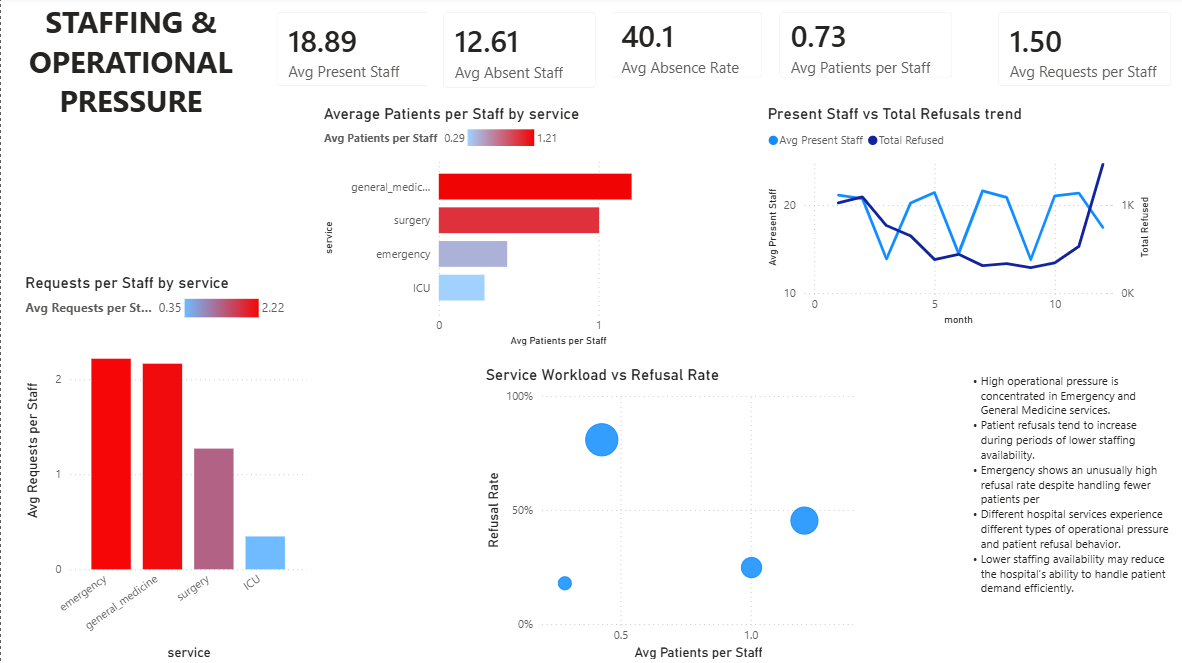

The dashboard page shown, as its layout file describes it:
{"tool":"powerbi","page":{"name":"Page 2","canvas":[1280,720],"ordinal":1},"visuals":[{"type":"cardVisual","fields":{"Data":["measures (1).Avg Patients per Staff"]},"box":[822.6,0,221.8,105.2],"z":0},{"type":"cardVisual","fields":{"Data":["measures (1).Avg Requests per Staff"]},"box":[1059,0,221.8,115],"z":1000},{"type":"cardVisual","fields":{"Data":["measures (1).Avg Absence Rate"]},"box":[639.6,0,199.2,105.2],"z":2000},{"type":"cardVisual","fields":{"Data":["measures (1).Avg Present Staff"]},"box":[280.1,0,199.2,115],"z":3000},{"type":"cardVisual","fields":{"Data":["measures (1).Avg Absent Staff"]},"box":[459.9,0,199.2,116.6],"z":4000},{"type":"textbox","box":[0,0,280.1,150.6],"z":5000},{"type":"barChart","title":"Average Patients per Staff by service","fields":{"Category":["hospital_operations_cleaned.service"],"Y":["measures (1).Avg Patients per Staff"]},"box":[343.3,116.6,396.7,265.6],"z":6000},{"type":"columnChart","title":"Requests per Staff by service","fields":{"Category":["hospital_operations_cleaned.service"],"Y":["measures (1).Avg Requests per Staff"]},"box":[21,299.6,314.1,421],"z":7000},{"type":"lineChart","title":"Present Staff vs Total Refusals trend","fields":{"Y":["measures (1).Avg Present Staff"],"Category":["hospital_operations_cleaned.month"],"Y2":["measures (1).Total Refused"]},"box":[822.6,116.6,422.6,242.9],"z":8000},{"type":"scatterChart","title":"Service Workload vs Refusal Rate","fields":{"X":["measures (1).Avg Patients per Staff"],"Y":["measures (1).Refusal Rate"],"Size":["measures (1).Total Requests"],"Category":["hospital_operations_cleaned.service"]},"box":[518.2,398.3,416.1,322.2],"z":9000},{"type":"textbox","box":[1034.7,383.8,233.2,336.8],"z":10000}]}

Visuals, with their boxes in screenshot pixels (x1, y1, x2, y2), scaled from the page's 1280x720 canvas onto the 1182x663 screenshot:
cardVisual - measures (1).Avg Patients per Staff: (760, 0, 964, 97)
cardVisual - measures (1).Avg Requests per Staff: (978, 0, 1181, 106)
cardVisual - measures (1).Avg Absence Rate: (591, 0, 775, 97)
cardVisual - measures (1).Avg Present Staff: (259, 0, 443, 106)
cardVisual - measures (1).Avg Absent Staff: (425, 0, 609, 107)
textbox: (0, 0, 259, 139)
"Average Patients per Staff by service" barChart: (317, 107, 683, 352)
"Requests per Staff by service" columnChart: (19, 276, 309, 662)
"Present Staff vs Total Refusals trend" lineChart: (760, 107, 1150, 331)
"Service Workload vs Refusal Rate" scatterChart: (479, 367, 863, 662)
textbox: (955, 353, 1171, 662)
